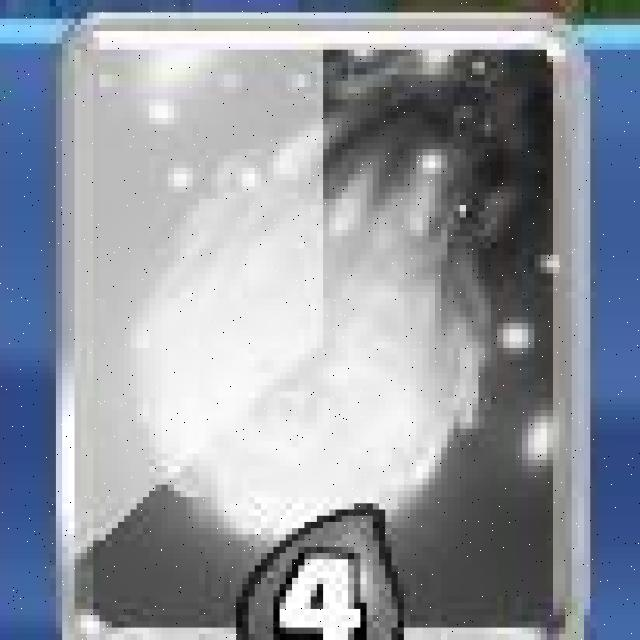Fireball: (53, 12, 589, 640)
